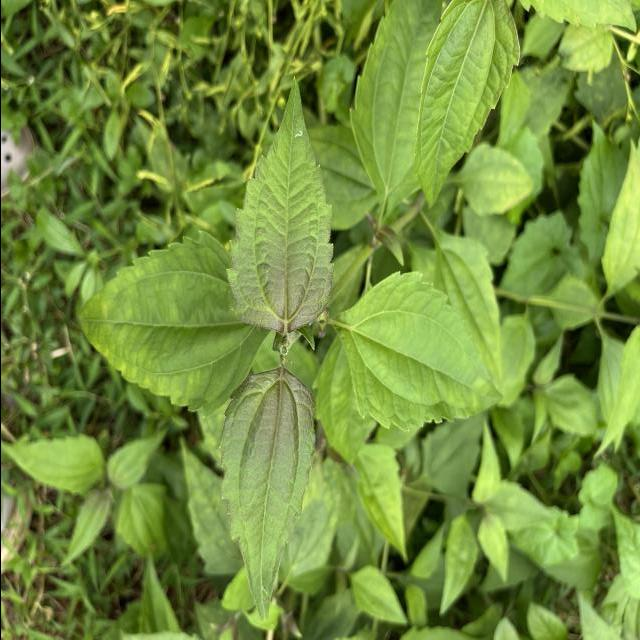Chromolaena odorata: (220, 70, 338, 334), (214, 363, 320, 625)
